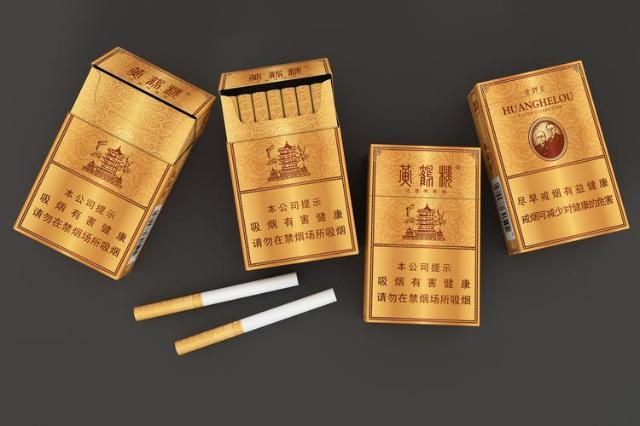Smoking: (175, 288, 337, 356), (134, 273, 300, 321)
